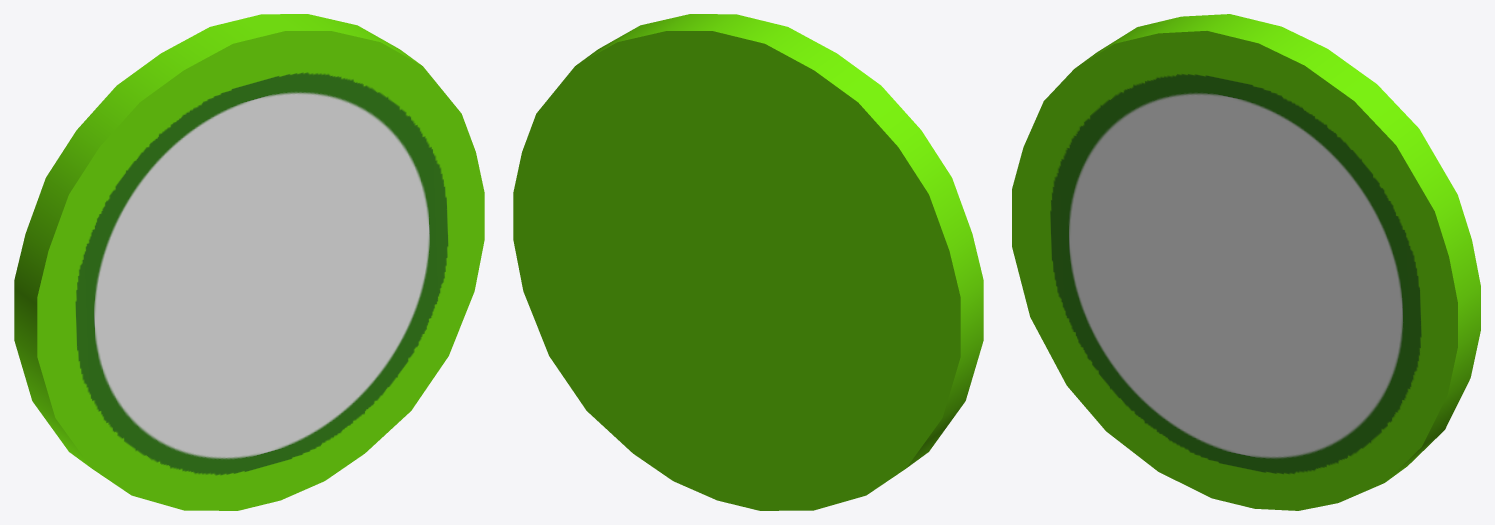
The model's file is dartasil.fbx.
3 renders of one model, left to right at view 1: azimuth 30°, elevation 25°; view 2: azimuth 150°, elevation 25°; view 3: azimuth 330°, elevation 25°, orthographic.
Visible parts, largest first — view 1: dartasil; view 2: dartasil; view 3: dartasil.
Part boxes in pixels (<box>): dartasil: <box>14,14,484,510</box>; dartasil: <box>513,14,983,510</box>; dartasil: <box>1012,14,1480,510</box>.
Size of the model in its own units: 4.08 by 4.08 by 0.3644.
Materials: 1 (1 with a texture image).
